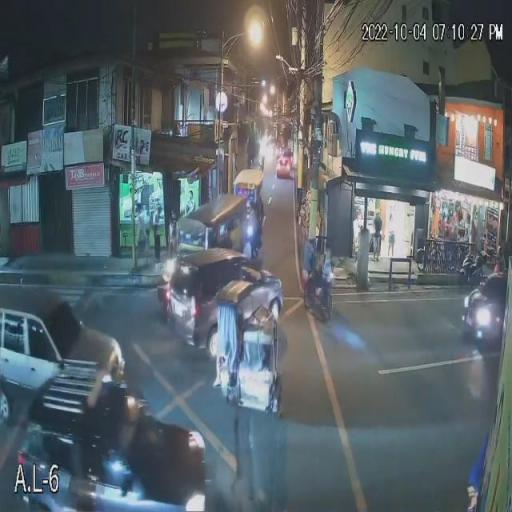motorcycle: (237, 225, 273, 265)
rider: (244, 204, 266, 255)
